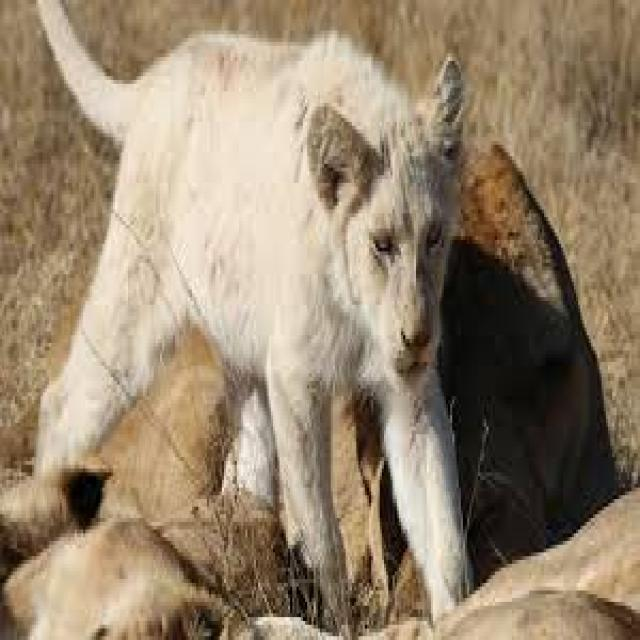Lion: (33, 39, 468, 607)
